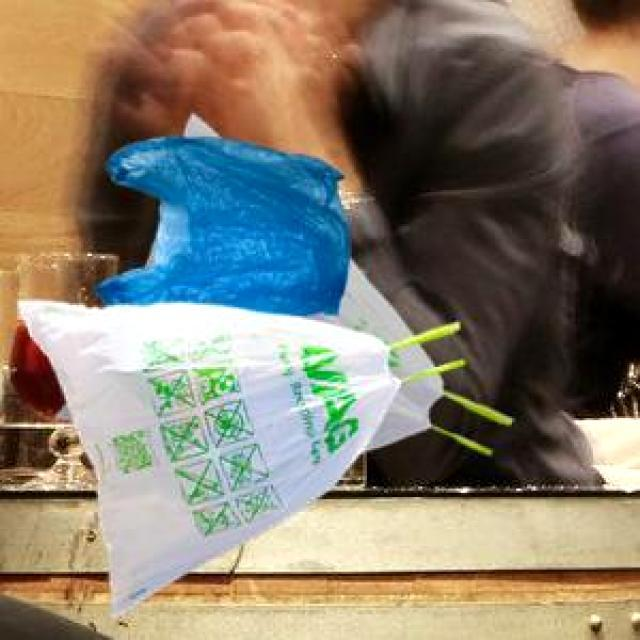Plastic_Bag: (52, 112, 509, 451), (16, 298, 462, 616), (92, 134, 346, 312)
